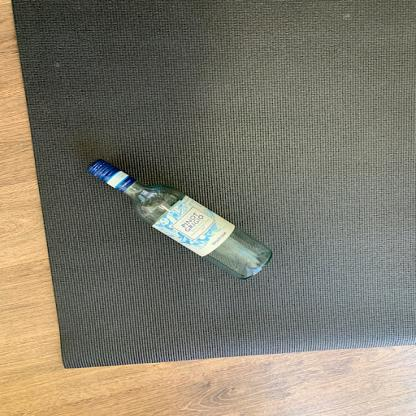trash: (85, 158, 281, 283)
